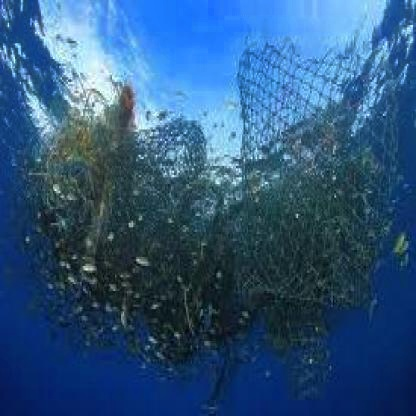net: (46, 46, 388, 320)
